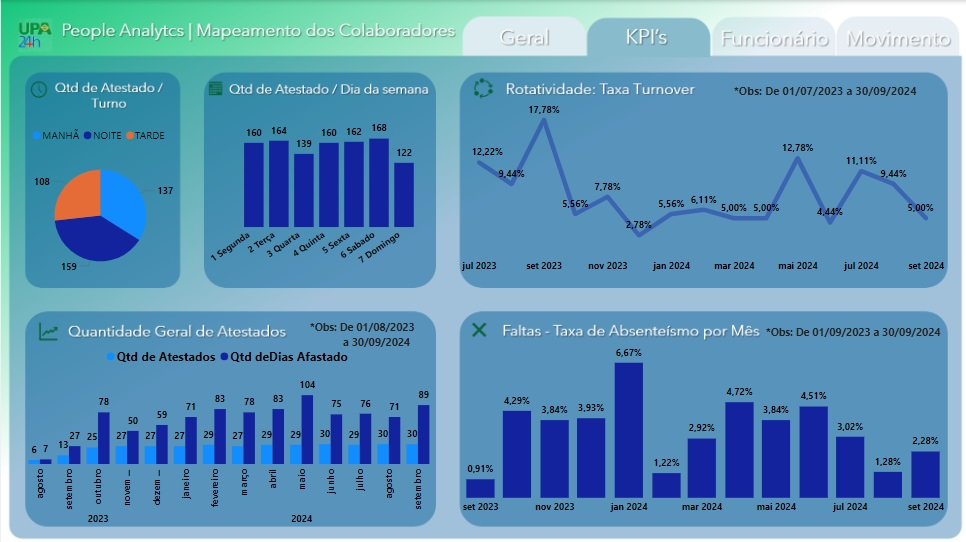

Layout of this report page (visuals, bound fields, positions):
{"tool":"powerbi","page":{"name":"KPIs","canvas":[1280,720],"ordinal":1},"visuals":[{"type":"pieChart","fields":{"Category":["Geral.Turno"],"Y":["CountNonNull(Geral.QTD Atestados)"]},"box":[28.5,158.4,203.9,223.3],"z":0},{"type":"clusteredColumnChart","fields":{"Category":["dias da semana.DiaDaSemanaOrdenado","dias da semana.Dia da Semana"],"Y":["Sum(dias da semana.Qtd de atestados por dia da semana)"]},"box":[270,144.7,292.8,223.3],"z":1000},{"type":"clusteredColumnChart","fields":{"Category":["Absenteísmo.Mês"],"Y":["Sum(Absenteísmo.Absenteísmo)"]},"box":[602.7,438.6,645.9,247.2],"z":2000},{"type":"lineClusteredColumnComboChart","fields":{"Y":["Count(Atestados.DATA)","CountNonNull(Atestados.QTD DE DIAS)"],"Category":["Atestados.DATA.Variation.Hierarquia de datas.Ano","Atestados.DATA.Variation.Hierarquia de datas.Mês","Atestados.DATA.Variation.Hierarquia de datas.Dia"]},"box":[15.9,447.7,569.6,257.5],"z":3000},{"type":"textbox","box":[960.4,103.7,260.9,46.7],"z":4000},{"type":"textbox","box":[1002.5,422.7,260.9,46.7],"z":5000},{"type":"textbox","box":[402.2,417,172,52.4],"z":6000},{"type":"lineChart","fields":{"Category":["Turnover.Mês"],"Y":["Sum(Turnover.Turnover)"]},"box":[602.7,121.9,645.9,247.2],"z":7000},{"type":"pageNavigator","box":[612.2,20.9,649.3,55.7],"z":8000}]}

Visuals, with their boxes in screenshot pixels (x1, y1, x2, y2), scaled from the page's 1280x720 canvas onto the 966x542 screenshot:
pieChart - Geral.Turno x CountNonNull(Geral.QTD Atestados): left=22, top=119, right=175, bottom=287
clusteredColumnChart - dias da semana.DiaDaSemanaOrdenado x dias da semana.Dia da Semana: left=204, top=109, right=425, bottom=277
clusteredColumnChart - Absenteísmo.Mês x Sum(Absenteísmo.Absenteísmo): left=455, top=330, right=942, bottom=516
lineClusteredColumnComboChart - Count(Atestados.DATA) x CountNonNull(Atestados.QTD DE DIAS): left=12, top=337, right=442, bottom=531
textbox: left=725, top=78, right=922, bottom=113
textbox: left=757, top=318, right=953, bottom=353
textbox: left=304, top=314, right=433, bottom=353
lineChart - Turnover.Mês x Sum(Turnover.Turnover): left=455, top=92, right=942, bottom=278
pageNavigator: left=462, top=16, right=952, bottom=58
